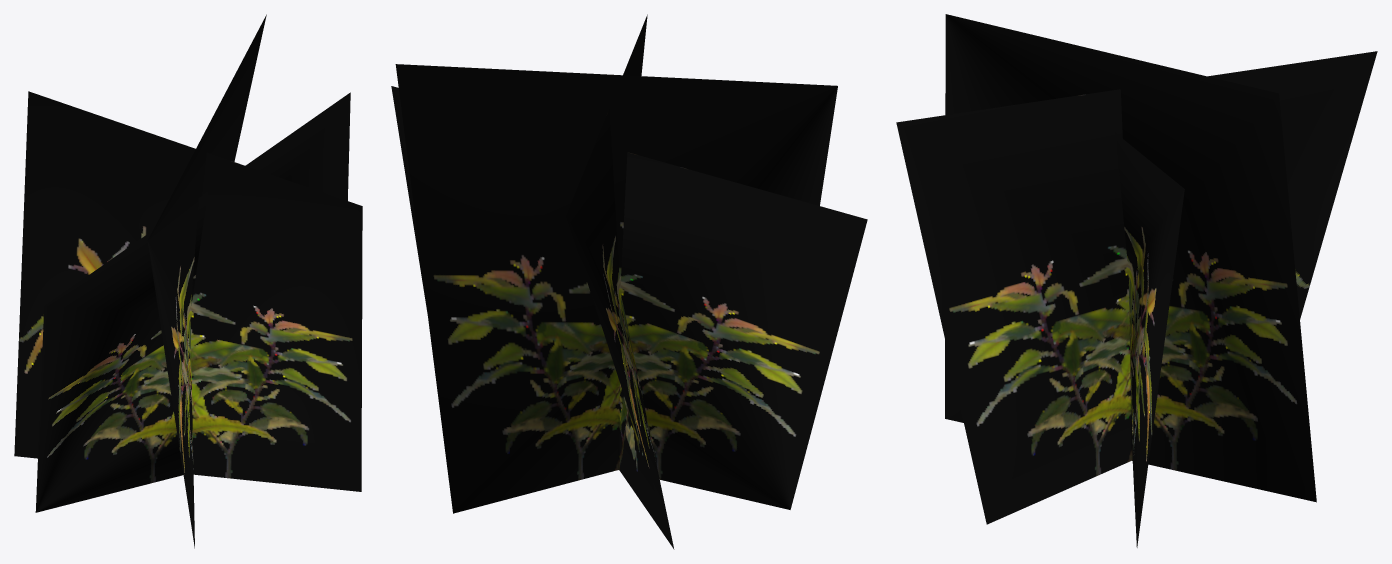
Rendered from obj__shr3.obj.
3 views of the same model, side by side, from view 1: azimuth 30°, elevation 25°; view 2: azimuth 150°, elevation 25°; view 3: azimuth 270°, elevation 25° (orthographic). The views are drawn at different scales.
Parts seen in each view (by area): view 1: shr3.tga; view 2: shr3.tga; view 3: shr3.tga.
Part boxes in pixels (x1,y1,x2,y2): shr3.tga: (14, 14, 362, 548); shr3.tga: (391, 14, 867, 549); shr3.tga: (896, 14, 1377, 547).
Size of the model in its own units: 119 by 117 by 114.
Materials: 1 (1 with a texture image).
